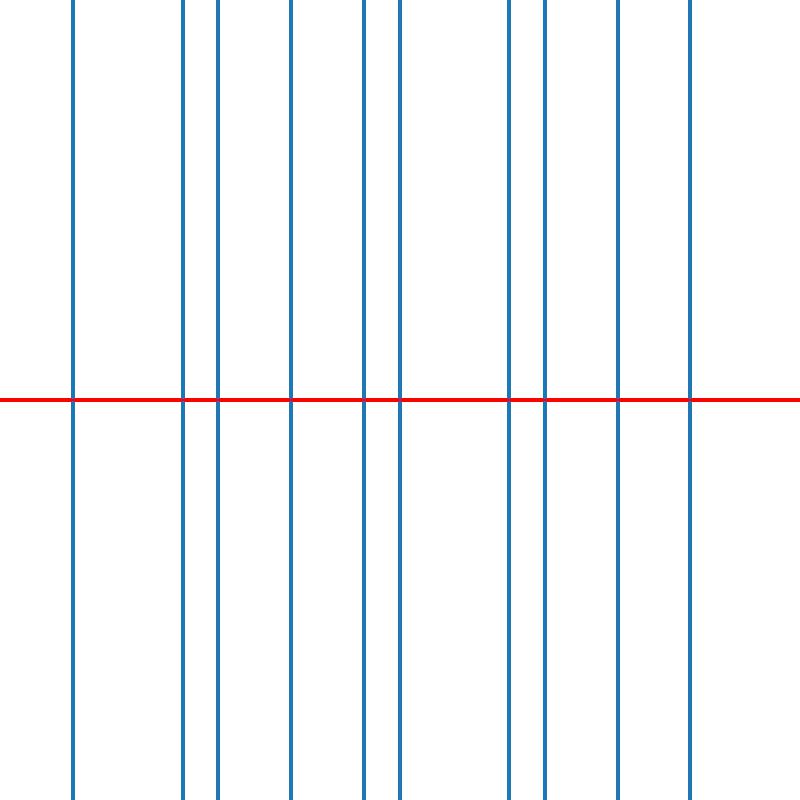root: (541, 396, 549, 404), (614, 396, 621, 404), (396, 396, 403, 404), (178, 396, 185, 404), (69, 396, 76, 404), (214, 396, 221, 404), (360, 396, 367, 404), (287, 396, 294, 404), (687, 396, 694, 404), (505, 396, 512, 404)
